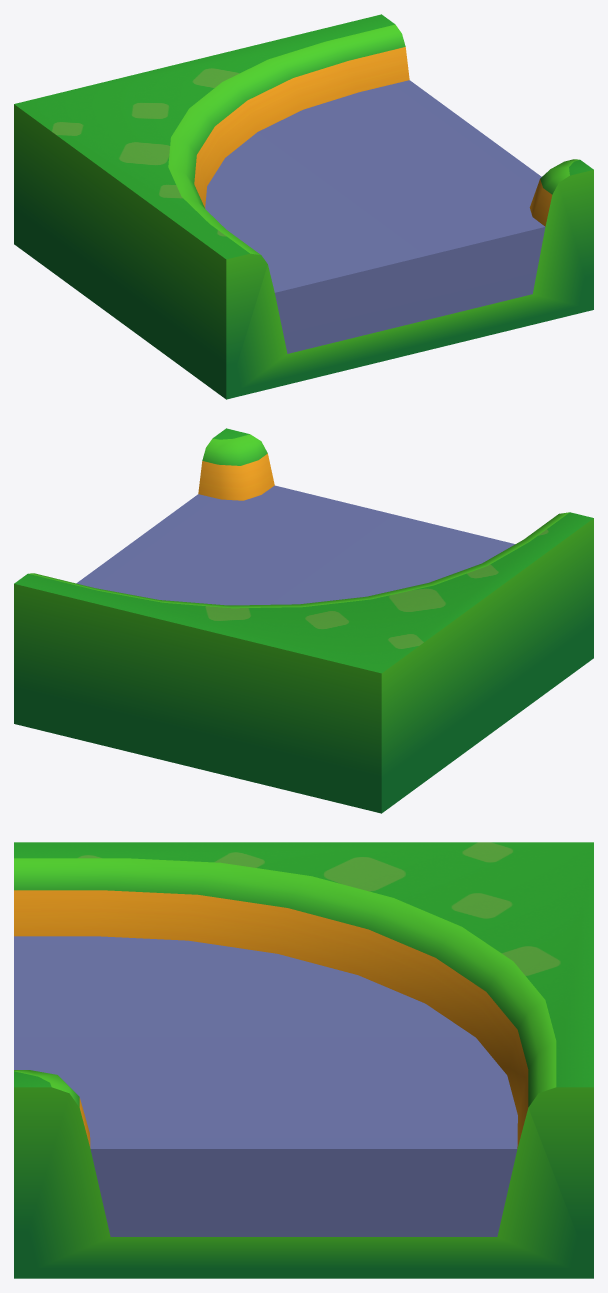
Rendered from RiverTile_3_2.glb.
3 renders of one model, top to bottom at view 1: azimuth 30°, elevation 25°; view 2: azimuth 150°, elevation 25°; view 3: azimuth 270°, elevation 25°, orthographic. The views are drawn at different scales.
Visible parts, largest first — view 1: RiverTile_3_2; view 2: RiverTile_3_2; view 3: RiverTile_3_2.
Part boxes in pixels (x1,y1,x2,y2): RiverTile_3_2: (14,14,593,399); RiverTile_3_2: (14,428,593,813); RiverTile_3_2: (14,842,593,1278).
Bounding box in the file's own units: 4 × 1.46 × 4.
Materials: 4 (4 with a texture image).
